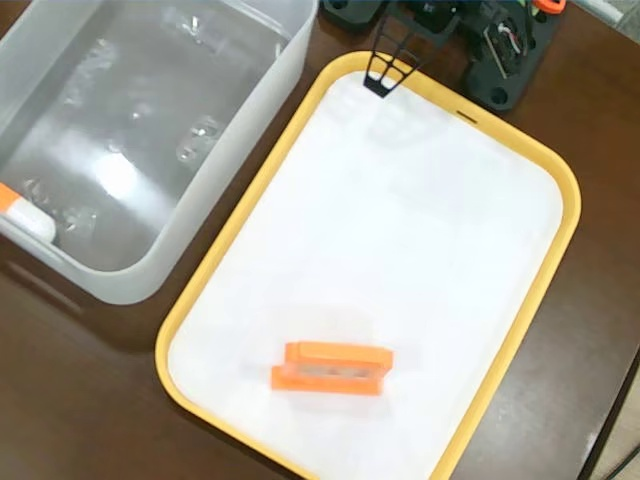pill: (0, 181, 59, 248)
